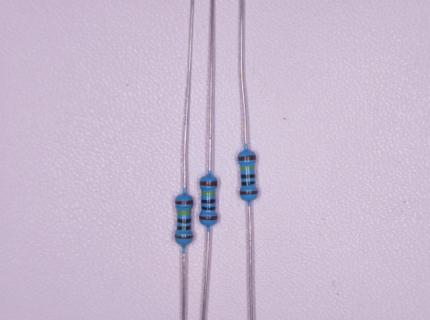Black band: (178, 218, 191, 224), (176, 225, 191, 230), (201, 199, 215, 204), (241, 174, 255, 179), (241, 181, 255, 186), (201, 207, 216, 210)
Brown band: (238, 155, 256, 161), (199, 215, 218, 220), (175, 200, 193, 205), (201, 181, 217, 186), (175, 235, 193, 239), (240, 191, 258, 195)
Yellow band: (177, 211, 191, 215), (241, 166, 254, 170), (202, 192, 216, 195)
